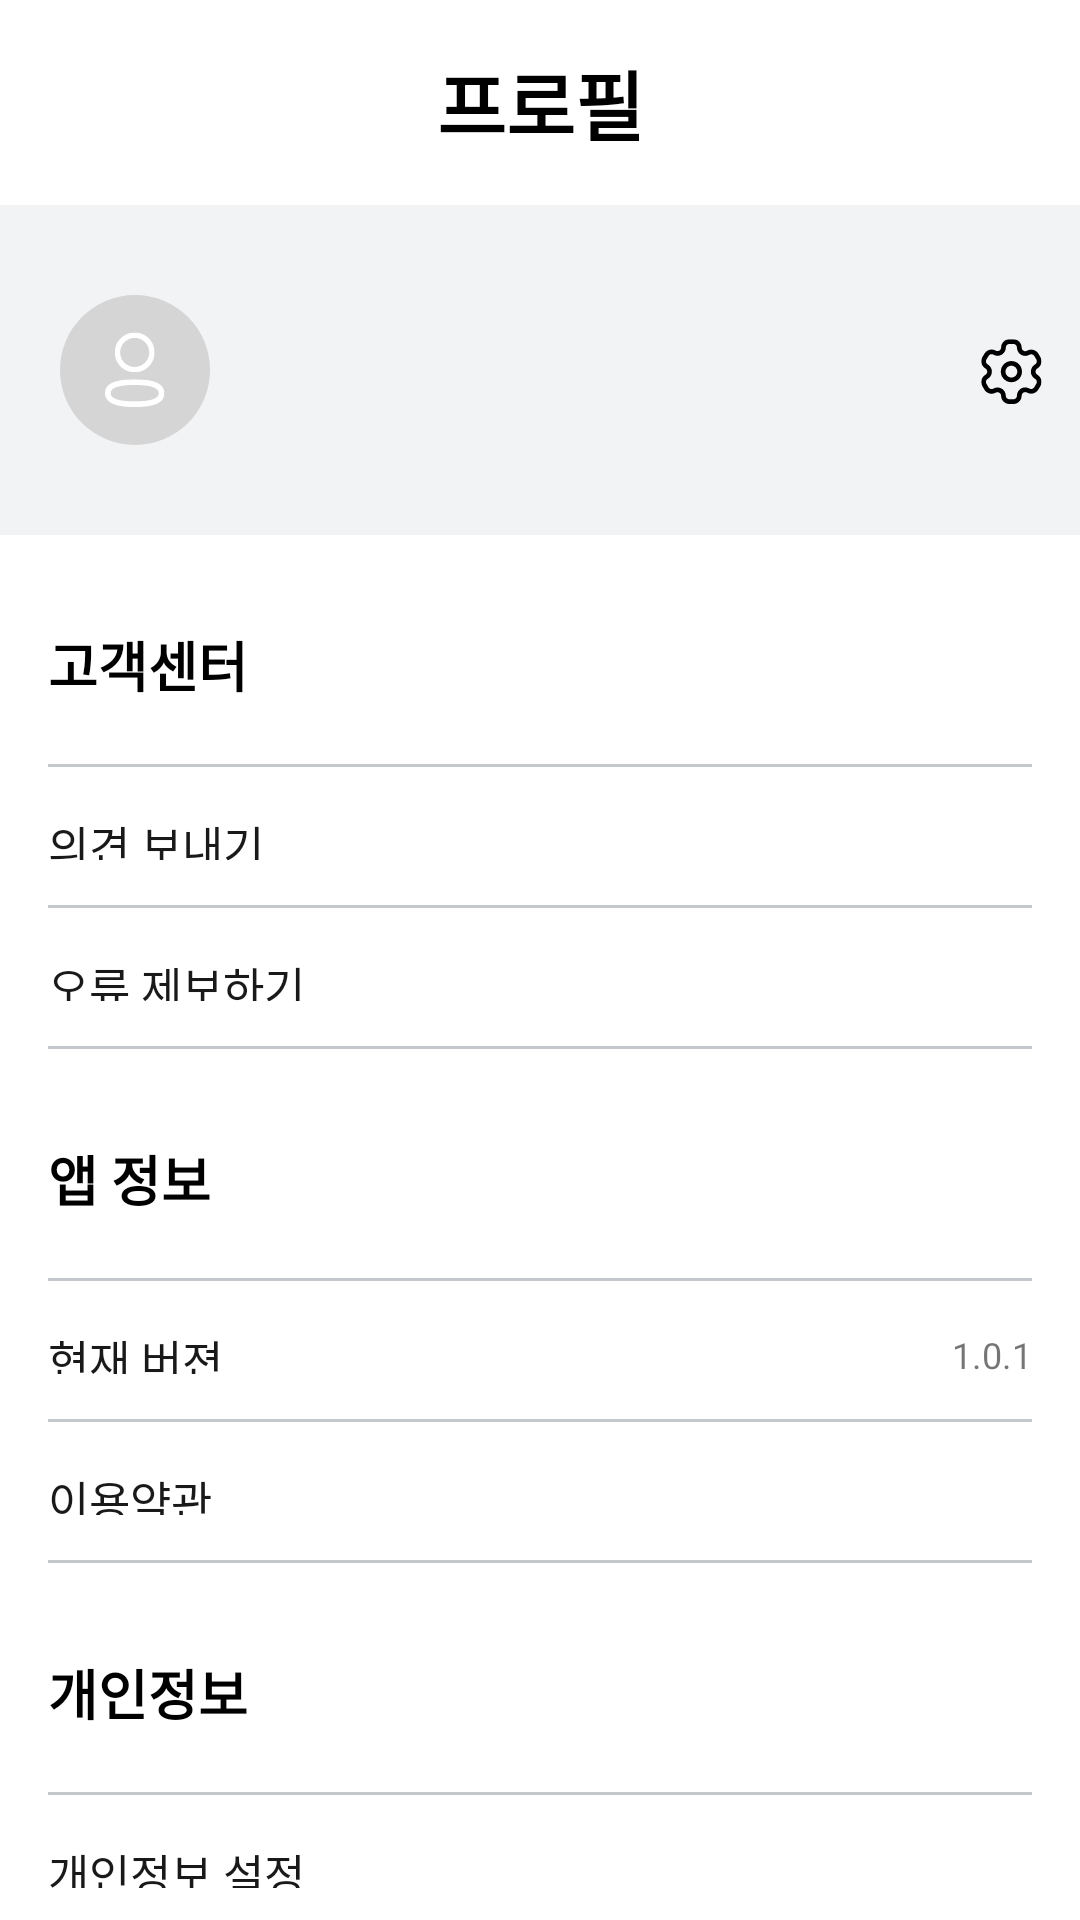

Named icons in this screenshot (1080px×1920px) and their centers, [x,y]:
profile: [135,370]
setting: [1011,371]
